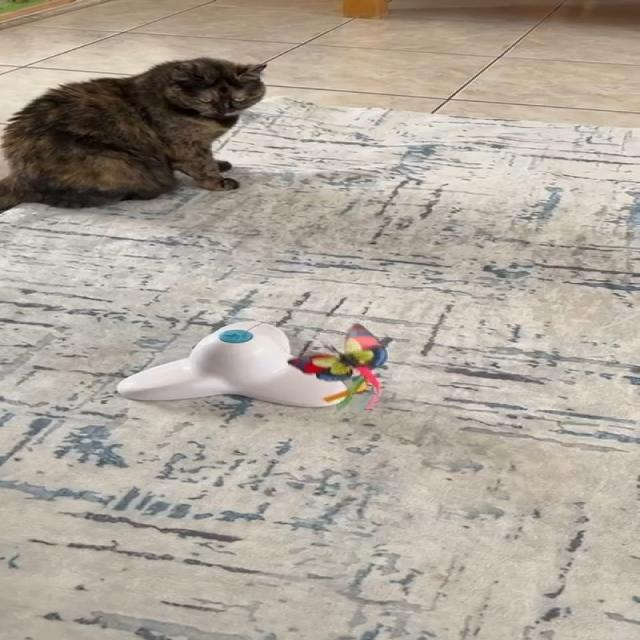authorized: (0, 56, 268, 213)
